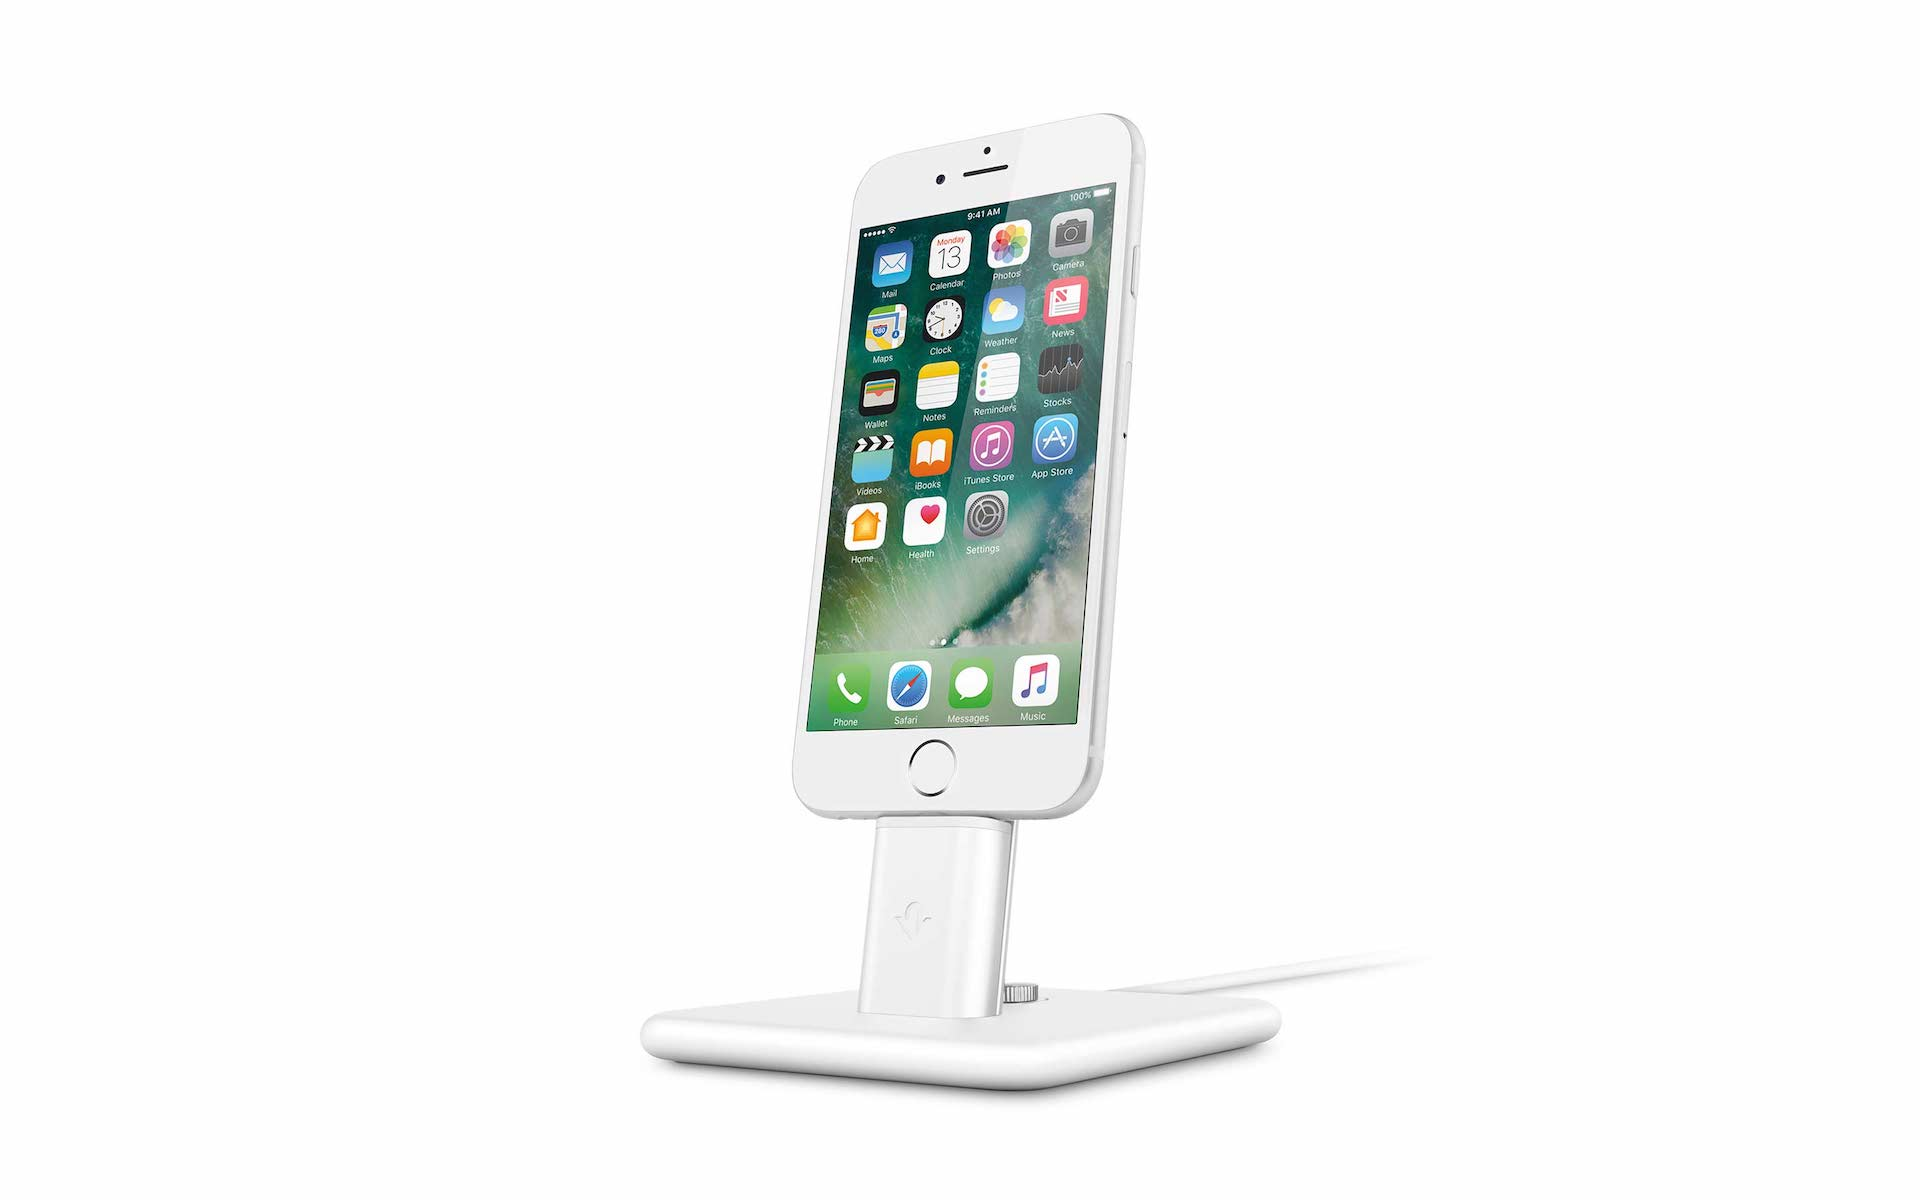smartphone: (789, 109, 1149, 824)
